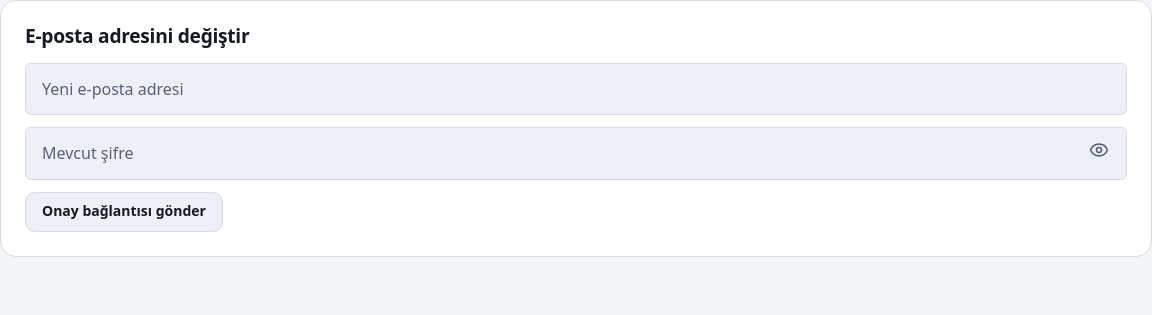
Scenario: e-mail change › requests a change and says nothing changed until the new inbox confirms
Type "new@example.com" into the field with placeholder "Yeni e-posta adresi" at (576, 89), box 25,63 -> 1127,116
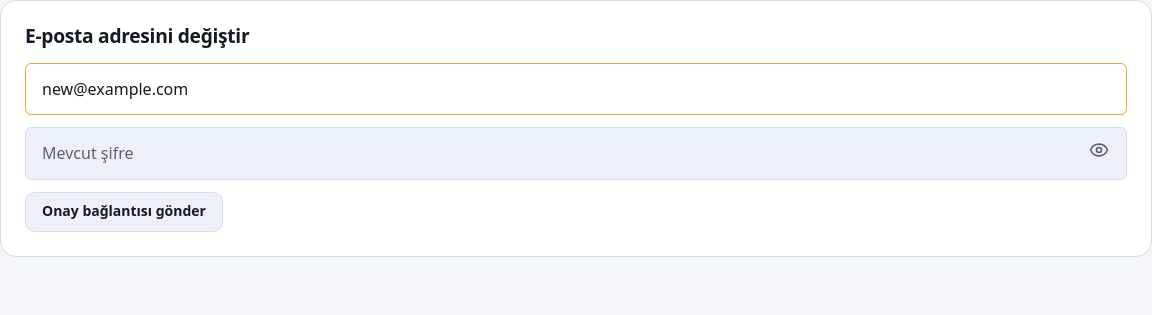
Type "Secret-123!" into the password field with placeholder "Mevcut şifre" at (576, 154), box 25,128 -> 1127,180
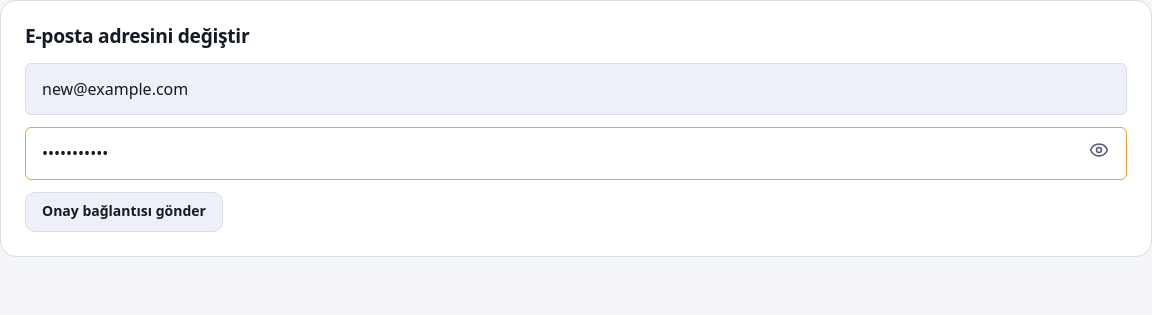
Click the button "Onay bağlantısı gönder" at (124, 212), box 25,192 -> 223,232
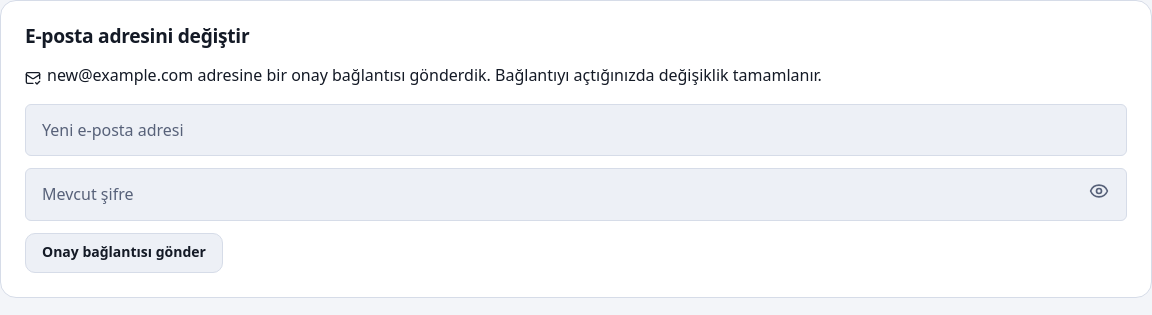
Now the message shows "new@example.com adresine bir onay", box 47,64 -> 822,86
